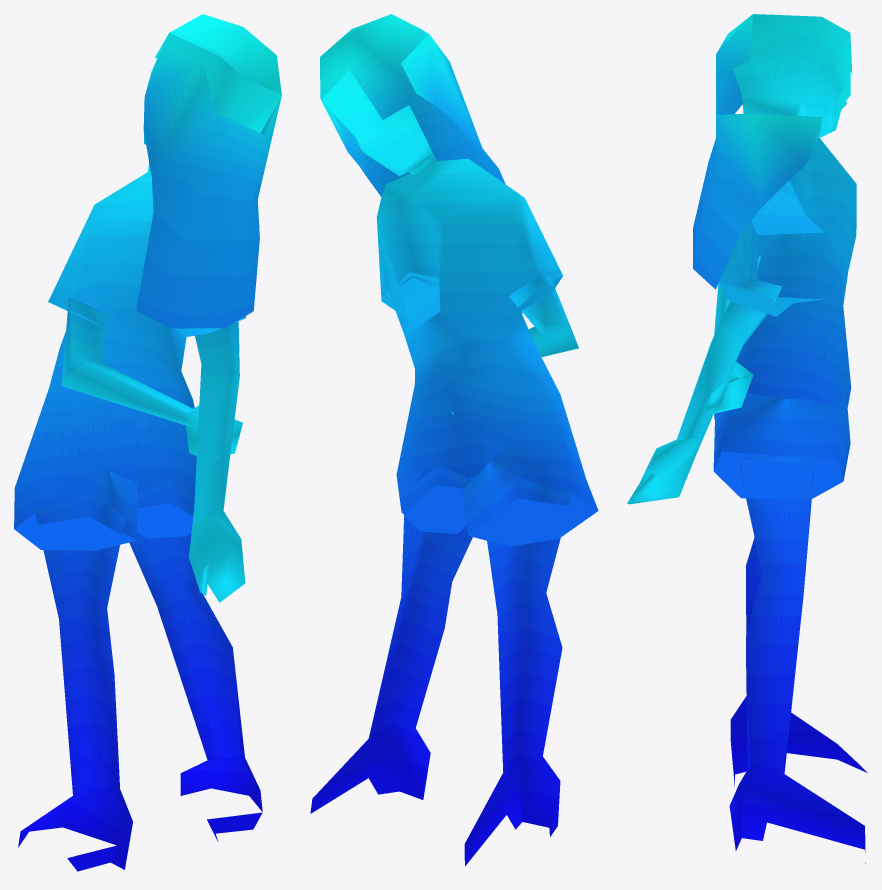
File: ps2_save-icons_kamaitachinoyorutriplekamaitachinoyoru-2kangokujimanowarabeuta.glb
3 renders of one model, left to right at view 1: azimuth 30°, elevation 25°; view 2: azimuth 150°, elevation 25°; view 3: azimuth 270°, elevation 25°, orthographic. The views are drawn at different scales.
Parts seen in each view (by area): view 1: sn4.ico; view 2: sn4.ico; view 3: sn4.ico.
Part boxes in pixels (box(x1,y1,x2,y2)): sn4.ico: box(14, 14, 281, 871); sn4.ico: box(310, 14, 598, 866); sn4.ico: box(627, 14, 867, 863).
Size of the model in its own units: 1.57 by 4.78 by 1.25.
1 material, 1 textured.
